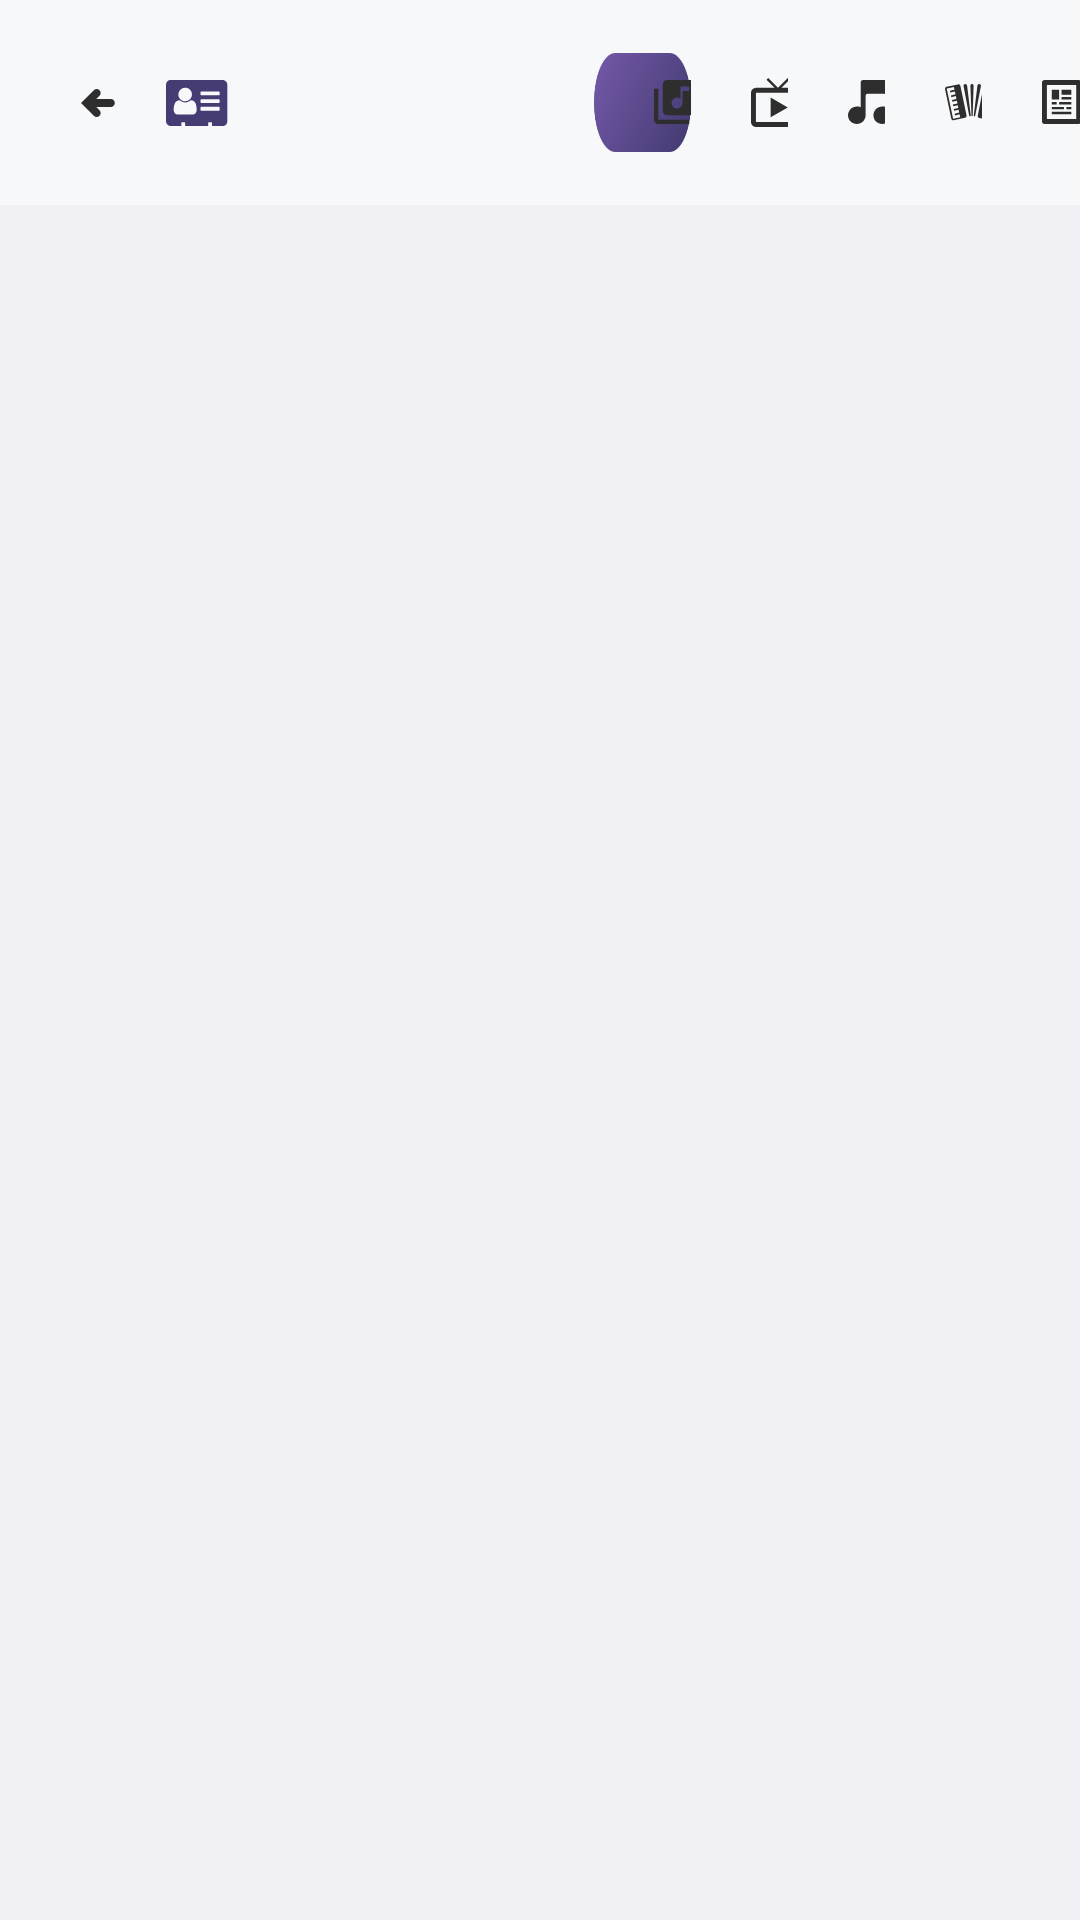

Point at icon controls on the screen. Image size 1080w x 1920h, points as [x,y].
left: [98,103]
